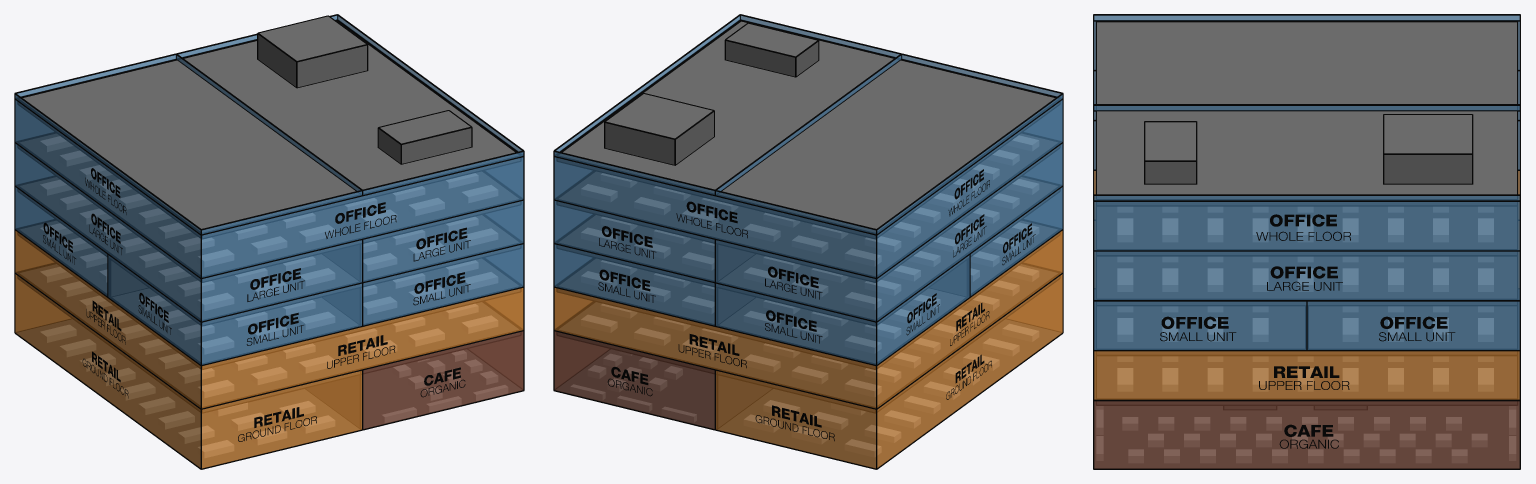
3 views of the same model, side by side, from view 1: azimuth 30°, elevation 25°; view 2: azimuth 150°, elevation 25°; view 3: azimuth 270°, elevation 25° (orthographic). The views are drawn at different scales.
Parts seen in each view (by area): view 1: floor_slabs_3, office_trans, retail_trans, furniture, black_outline_2, cafe_trans, text object; view 2: floor_slabs_3, office_trans, retail_trans, furniture, black_outline_2, cafe_trans, text object; view 3: floor_slabs_3, office_trans, cafe_trans, furniture, retail_trans, black_outline_2, text object.
Boxes of the visible parts, x1,y1,x2,y2 form: floor_slabs_3: [17, 16, 521, 467]; office_trans: [15, 15, 523, 364]; retail_trans: [15, 231, 523, 468]; furniture: [40, 136, 507, 457]; black_outline_2: [14, 14, 524, 469]; cafe_trans: [363, 331, 523, 428]; text object: [43, 168, 470, 441]; floor_slabs_3: [556, 21, 1060, 467]; office_trans: [554, 15, 1062, 364]; retail_trans: [554, 231, 1062, 468]; furniture: [570, 135, 1038, 456]; black_outline_2: [553, 14, 1063, 469]; cafe_trans: [554, 331, 714, 428]; text object: [598, 169, 1035, 441]; floor_slabs_3: [1094, 22, 1519, 467]; office_trans: [1094, 15, 1519, 349]; cafe_trans: [1094, 401, 1519, 468]; furniture: [1096, 207, 1515, 462]; retail_trans: [1094, 171, 1519, 399]; black_outline_2: [1093, 14, 1520, 469]; text object: [1160, 214, 1455, 448].
Bounding box in the file's own units: 32.78 × 25.24 × 32.78.
